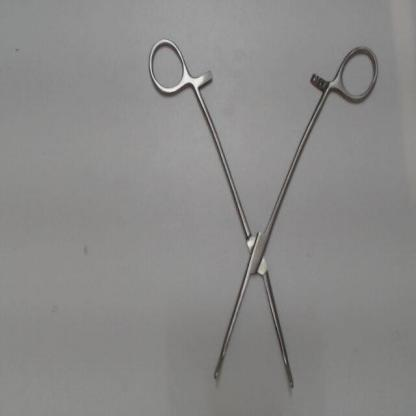Lahey Forceps: (142, 28, 386, 395)
